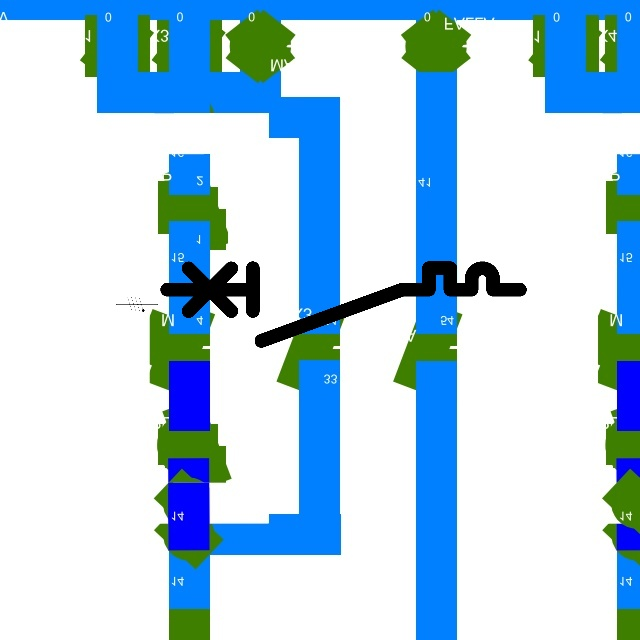interruptor_termomagnetico: (158, 259, 529, 350)
